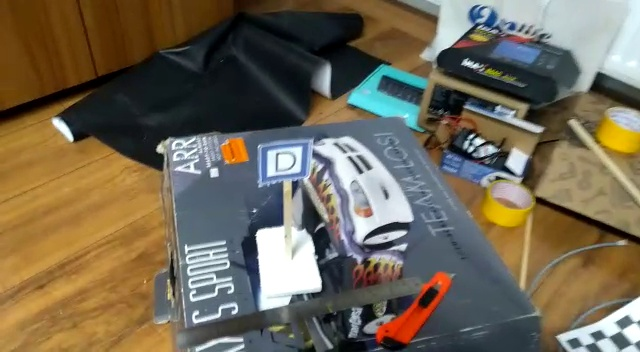durak: (252, 144, 313, 177)
